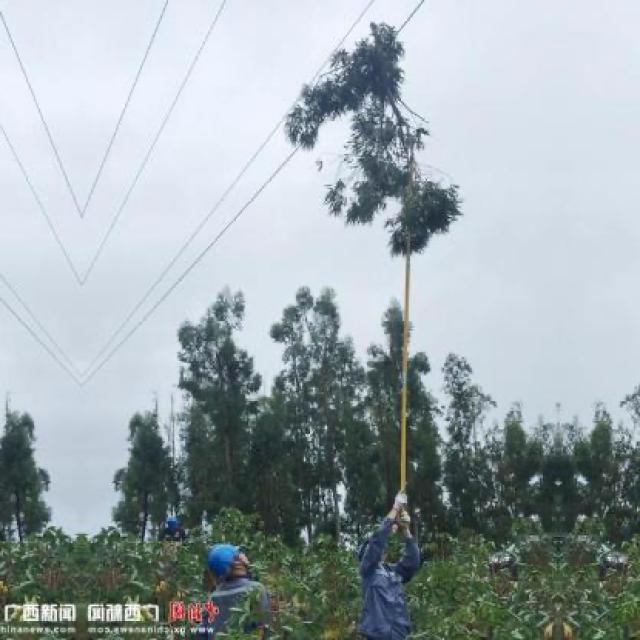con casco: (162, 522, 308, 586)
